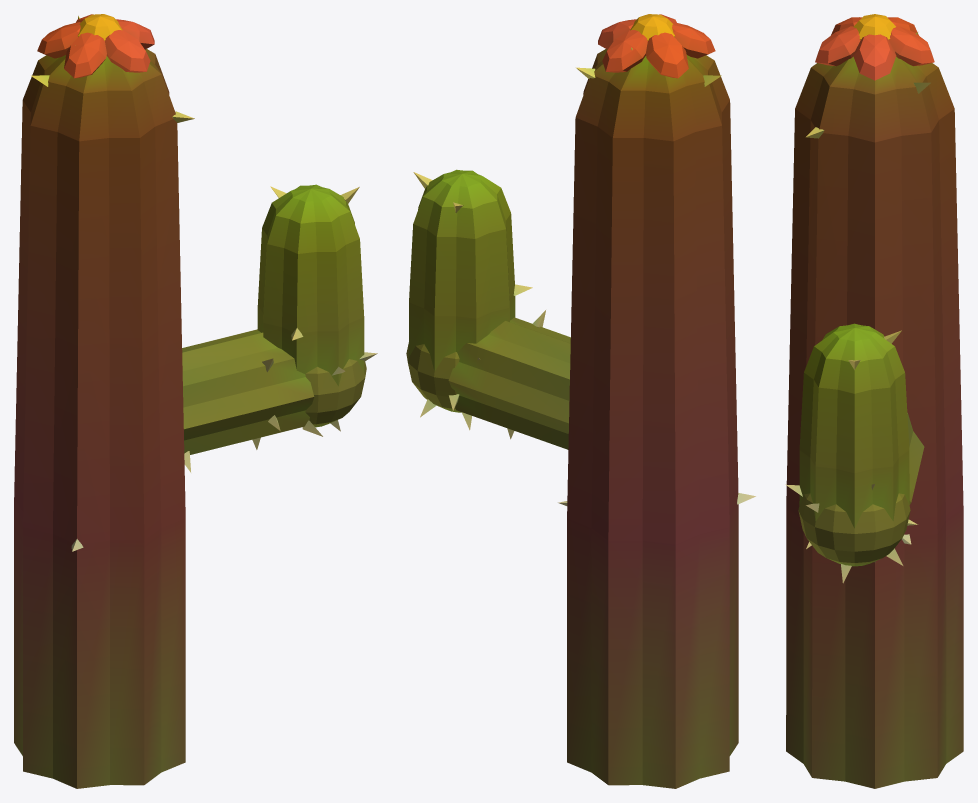
The model's file is Cactus_Saguaro_Small_01.glb.
3 views of the same model, side by side, from view 1: azimuth 30°, elevation 25°; view 2: azimuth 150°, elevation 25°; view 3: azimuth 270°, elevation 25° (orthographic).
Parts seen in each view (by area): view 1: Cactus_Saguaro_Small_01; view 2: Cactus_Saguaro_Small_01; view 3: Cactus_Saguaro_Small_01.
Part boxes in pixels (x1=…): Cactus_Saguaro_Small_01: x1=14, y1=14, x2=377, y2=788; Cactus_Saguaro_Small_01: x1=406, y1=14, x2=755, y2=788; Cactus_Saguaro_Small_01: x1=785, y1=14, x2=963, y2=788.
Bounding box in the file's own units: 0.8916 × 1.94 × 0.4218.
